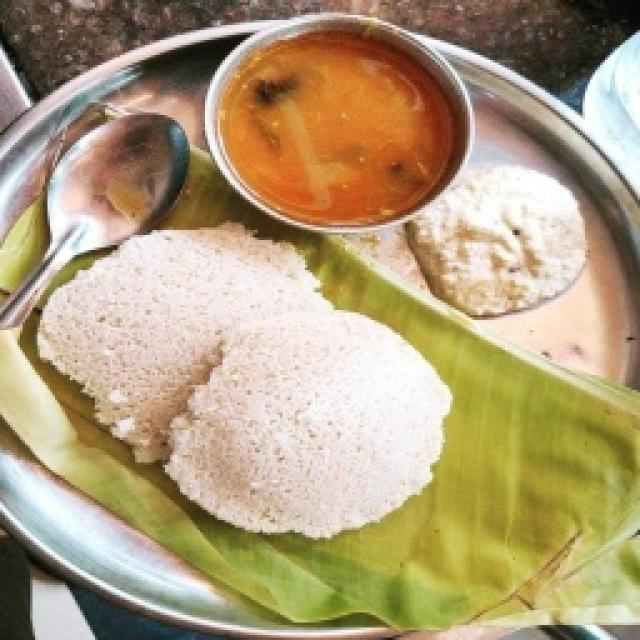idli: (78, 242, 426, 520)
